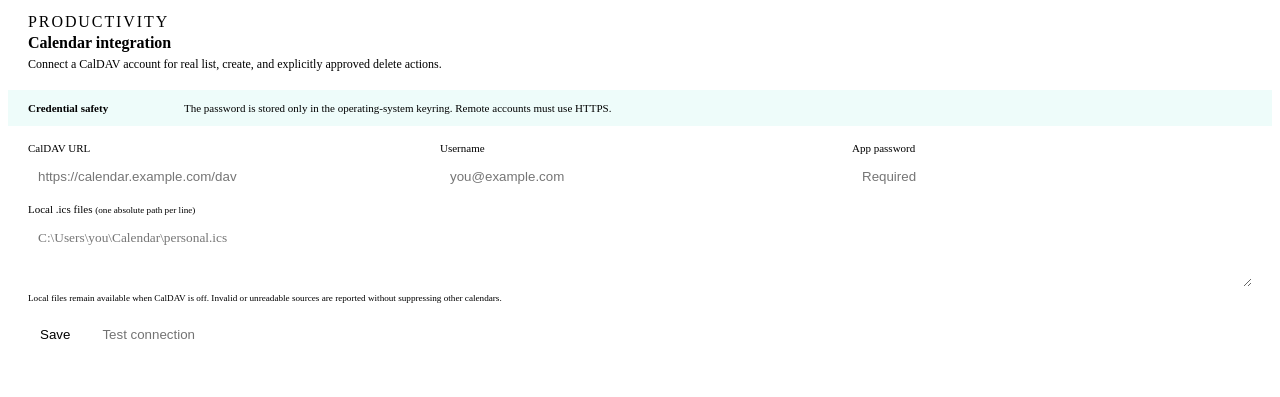
CalendarIntegrationPanel › does not store a new password for an account the daemon refused
In the field labelled "CalDAV URL": (228, 176) [28, 160, 428, 193], type "http://cal.example"
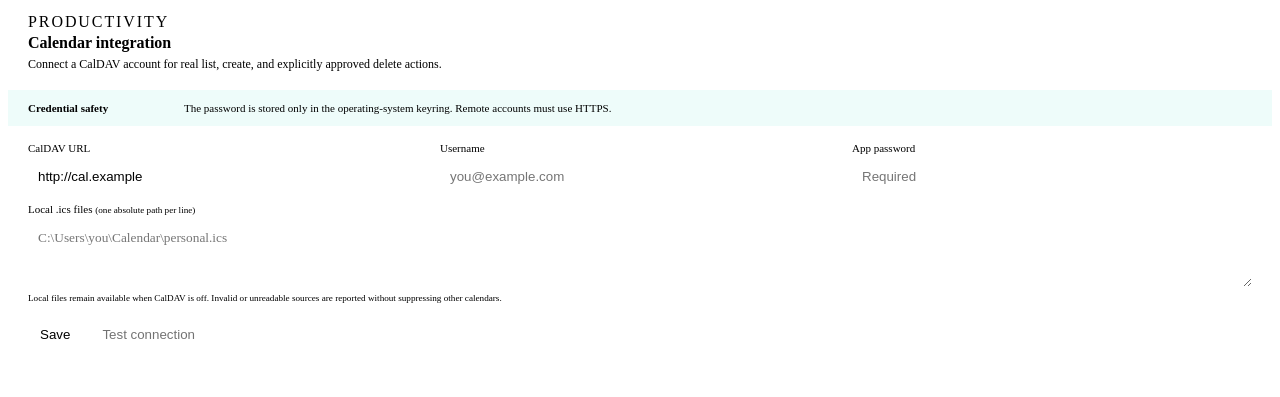
In the field labelled "Username": (640, 176) [440, 160, 840, 193], type "me"
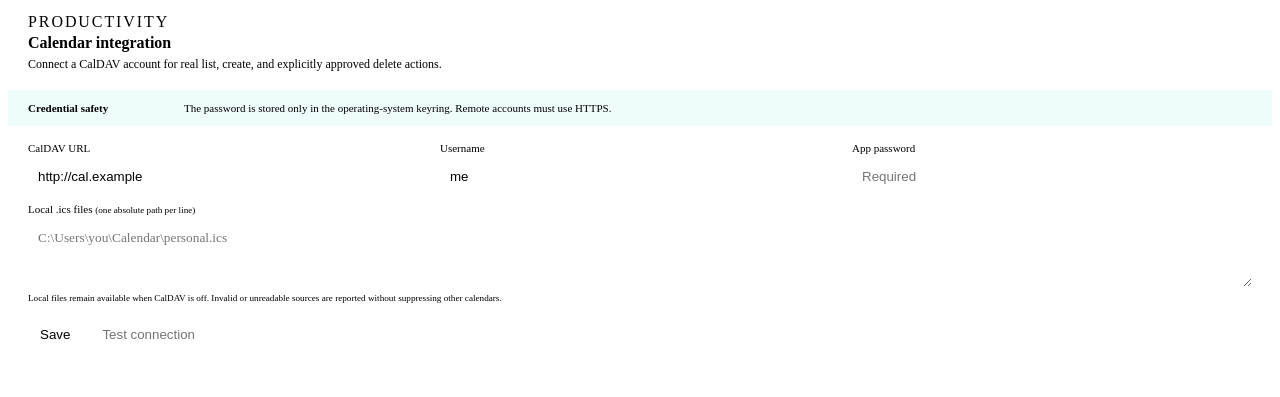
In the password field labelled "App password": (1052, 176) [852, 160, 1252, 193], type "app-pass"
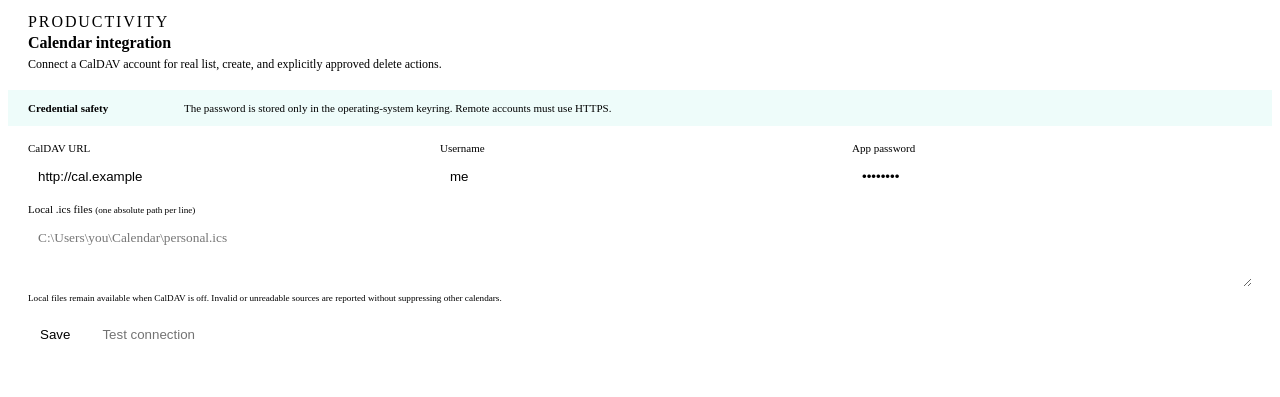
Click the button "Save": (55, 334) [28, 319, 82, 350]
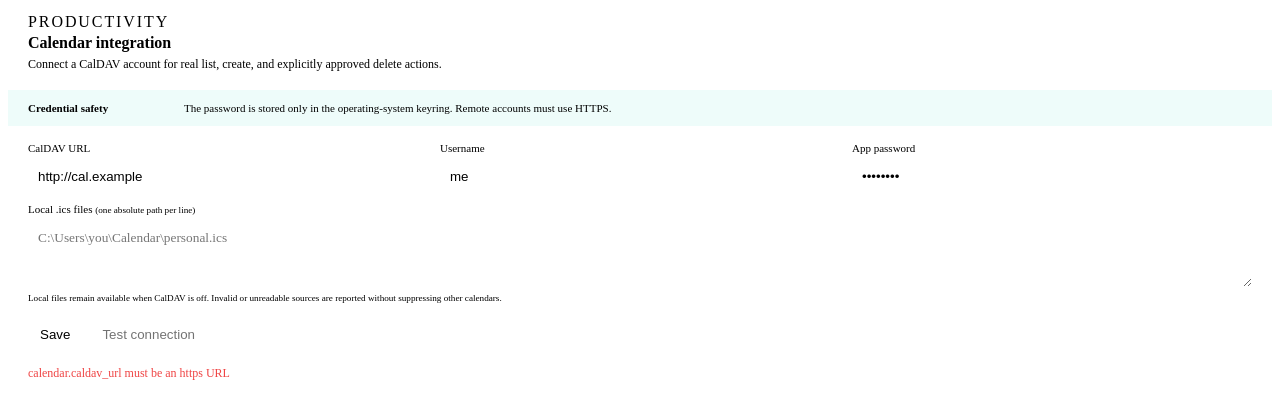
Expected: the text "calendar.caldav_url must be an https URL" is shown, [28, 366, 230, 380]
